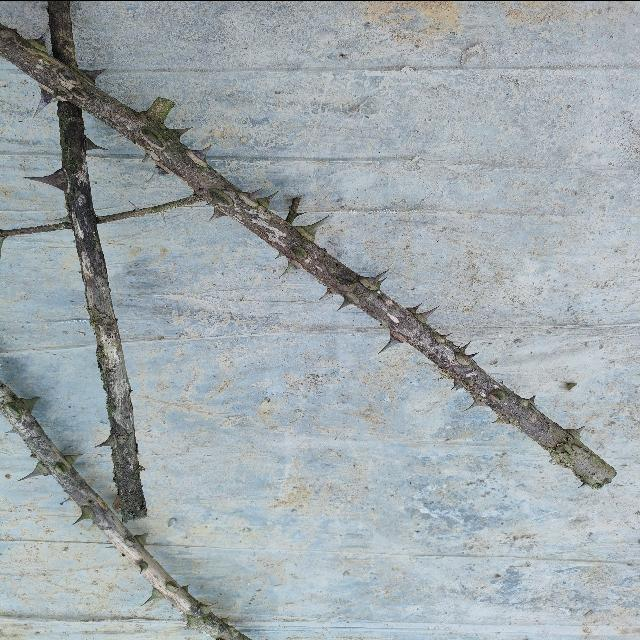branch: (0, 20, 616, 487), (0, 383, 245, 640)
